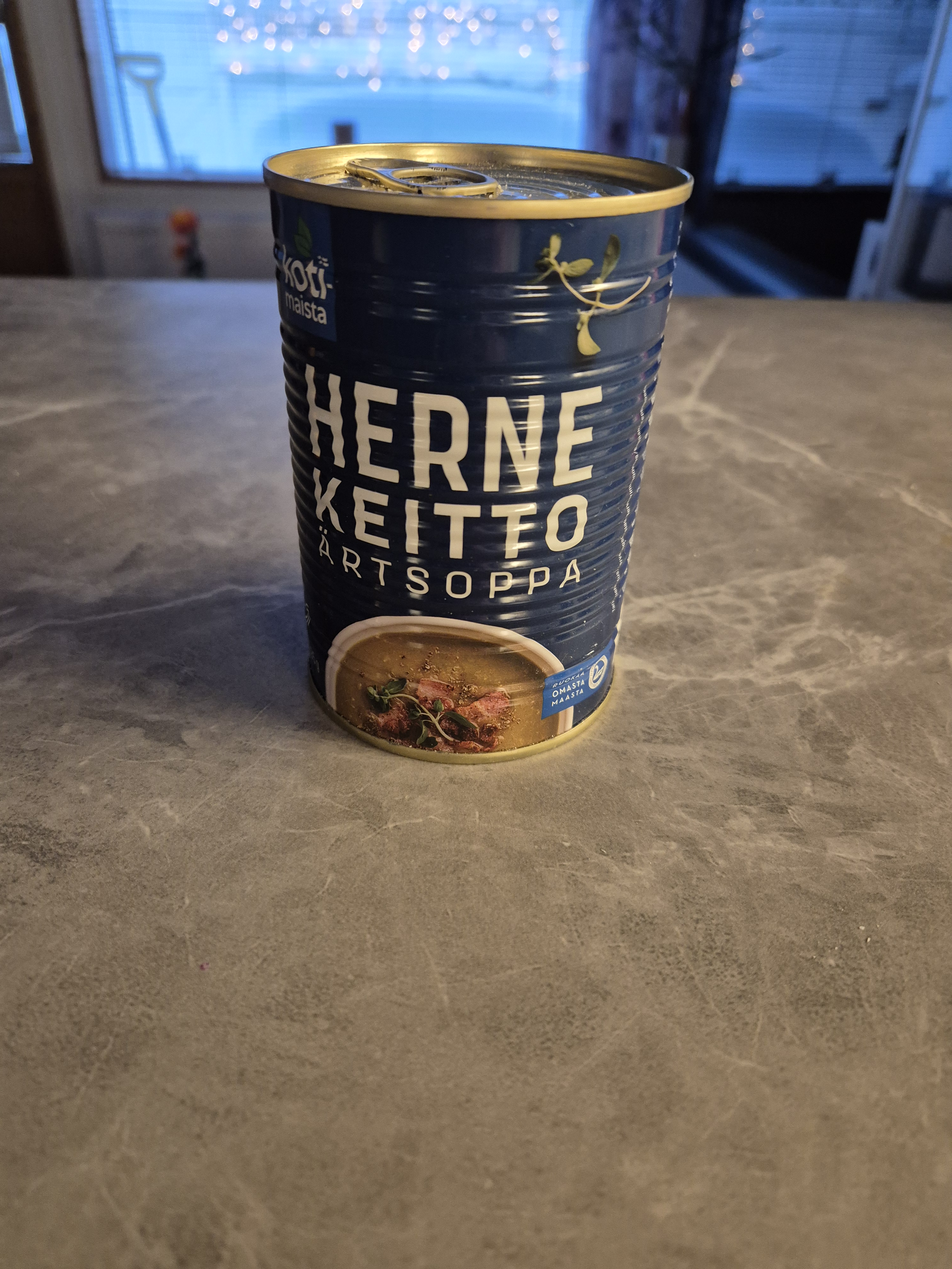Konservburk: (260, 139, 695, 767)
